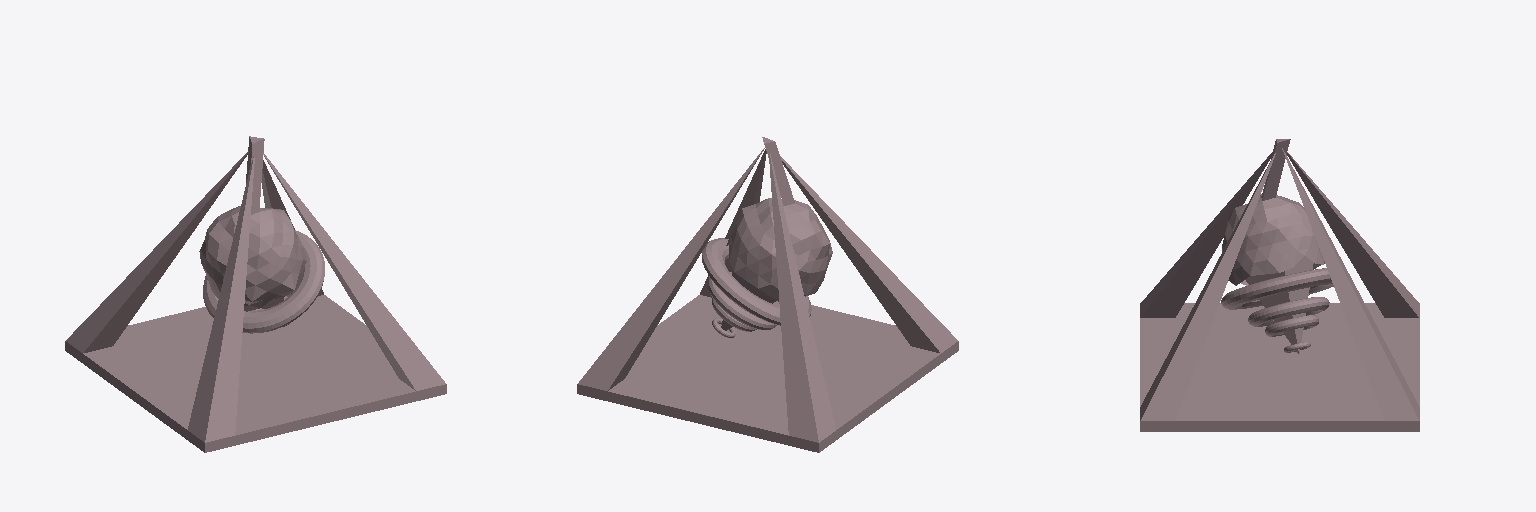
The model's file is Dish.obj.
3 renders of one model, left to right at view 1: azimuth 30°, elevation 25°; view 2: azimuth 150°, elevation 25°; view 3: azimuth 270°, elevation 25°, orthographic.
Parts seen in each view (by area): view 1: Cube.001; view 2: Cube.001; view 3: Cube.001.
Boxes of the visible parts, x1=… form: Cube.001: x1=65, y1=136, x2=446, y2=452; Cube.001: x1=577, y1=137, x2=958, y2=452; Cube.001: x1=1140, y1=139, x2=1419, y2=431.
Bounding box in the file's own units: 5 × 4.61 × 5.